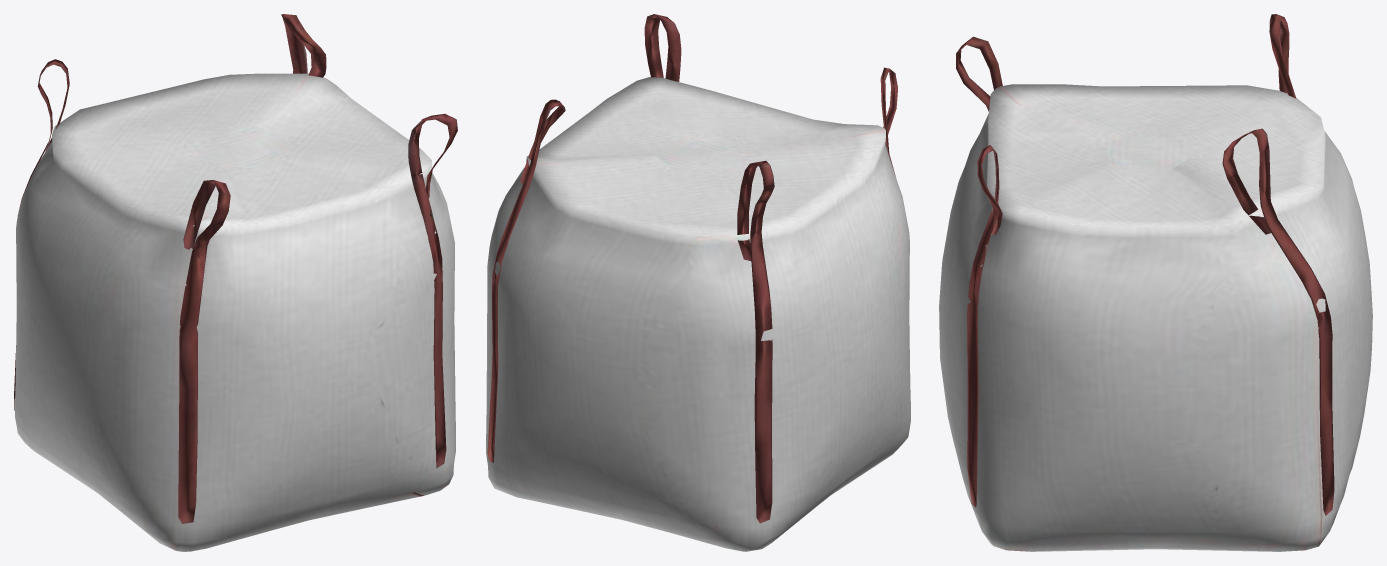
The model's file is sack.glb.
The picture shows the model from 3 angles, left to right: view 1: azimuth 30°, elevation 25°; view 2: azimuth 150°, elevation 25°; view 3: azimuth 270°, elevation 25°; orthographic projection. The views are drawn at different scales.
Visible parts, largest first — view 1: Big_industrial_sack1; view 2: Big_industrial_sack1; view 3: Big_industrial_sack1.
Boxes of the visible parts, bbox=[...] form: Big_industrial_sack1: bbox=[14, 14, 457, 551]; Big_industrial_sack1: bbox=[486, 14, 910, 551]; Big_industrial_sack1: bbox=[939, 14, 1372, 551].
Bounding box in the file's own units: 1.19 × 1.29 × 1.19.
1 material, 1 textured.
